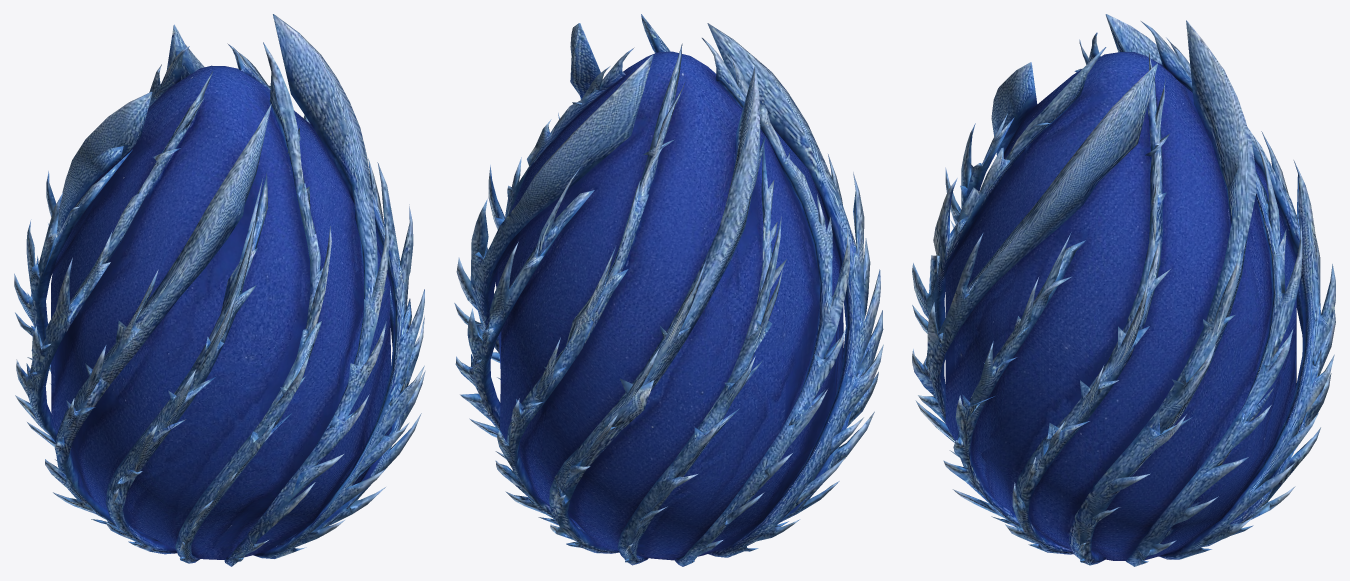
Rendered from blue+crystal+egg+3d+model.glb.
3 renders of one model, left to right at view 1: azimuth 30°, elevation 25°; view 2: azimuth 150°, elevation 25°; view 3: azimuth 270°, elevation 25°, orthographic. The views are drawn at different scales.
Visible parts, largest first — view 1: tripo_node_f2c0e0a4-f315-4060-88fa-d86051e51806; view 2: tripo_node_f2c0e0a4-f315-4060-88fa-d86051e51806; view 3: tripo_node_f2c0e0a4-f315-4060-88fa-d86051e51806.
Part boxes in pixels (left/top/right/bottom): tripo_node_f2c0e0a4-f315-4060-88fa-d86051e51806: left=14, top=14, right=425, bottom=566; tripo_node_f2c0e0a4-f315-4060-88fa-d86051e51806: left=454, top=14, right=883, bottom=566; tripo_node_f2c0e0a4-f315-4060-88fa-d86051e51806: left=912, top=14, right=1335, bottom=566.
Size of the model in its own units: 0.7441 by 0.998 by 0.7402.
Materials: 1 (1 with a texture image).
